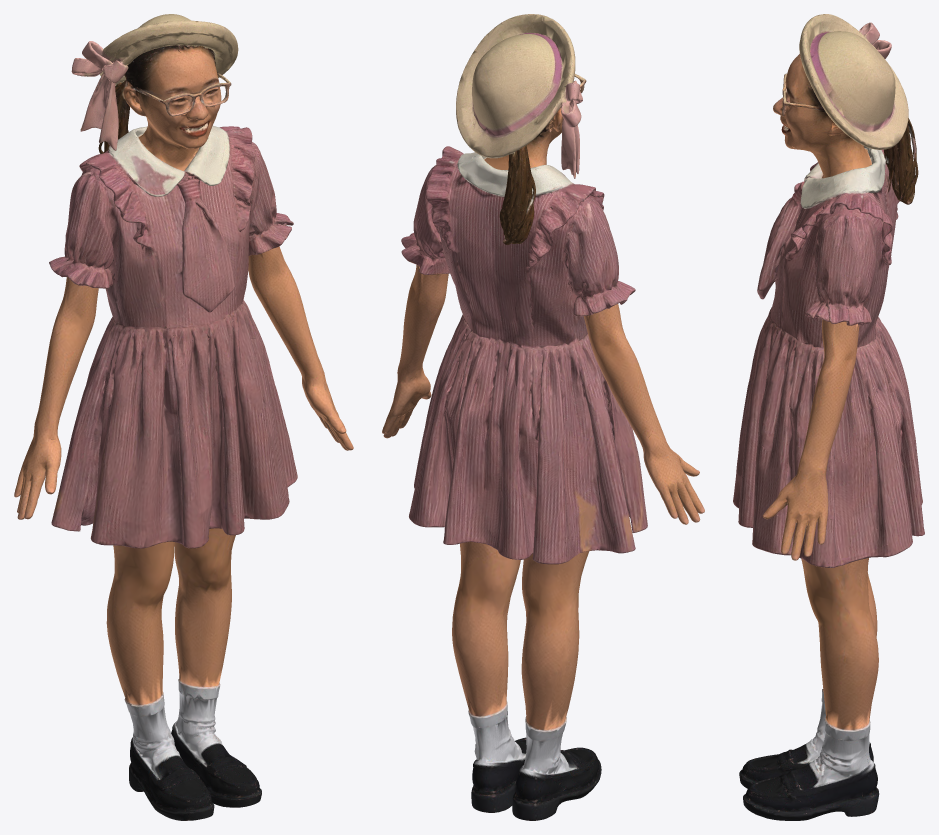
The model's file is thuan-display.glb.
The picture shows the model from 3 angles, left to right: view 1: azimuth 30°, elevation 25°; view 2: azimuth 150°, elevation 25°; view 3: azimuth 270°, elevation 25°; orthographic projection.
Parts seen in each view (by area): view 1: Thuan display neutral; view 2: Thuan display neutral; view 3: Thuan display neutral.
Part boxes in pixels (x1,y1,x2,y2): Thuan display neutral: (14, 14, 353, 820); Thuan display neutral: (382, 14, 704, 820); Thuan display neutral: (733, 14, 924, 820).
Size of the model in its own units: 0.7365 by 1.7 by 0.3832.
1 material, 1 textured.
